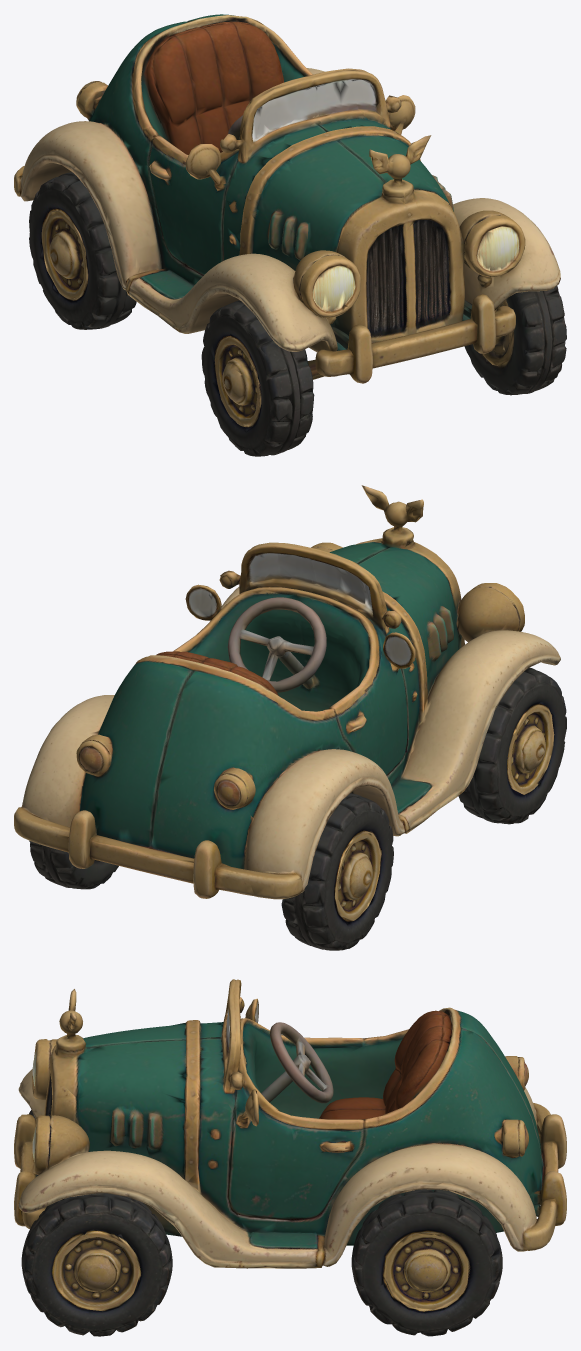
File: magnet-car.glb
The picture shows the model from 3 angles, top to bottom: view 1: azimuth 30°, elevation 25°; view 2: azimuth 150°, elevation 25°; view 3: azimuth 270°, elevation 25°; orthographic projection. The views are drawn at different scales.
Visible parts, largest first — view 1: tripo_node_3986daa3-ba83-444b-8585-3d1b31cf91e9; view 2: tripo_node_3986daa3-ba83-444b-8585-3d1b31cf91e9; view 3: tripo_node_3986daa3-ba83-444b-8585-3d1b31cf91e9.
Boxes of the visible parts, x1,y1,x2,y2 form: tripo_node_3986daa3-ba83-444b-8585-3d1b31cf91e9: [14, 14, 566, 456]; tripo_node_3986daa3-ba83-444b-8585-3d1b31cf91e9: [14, 485, 566, 950]; tripo_node_3986daa3-ba83-444b-8585-3d1b31cf91e9: [14, 979, 566, 1336].
Size of the model in its own units: 0.6169 by 0.5394 by 0.9796.
1 material, 1 textured.
